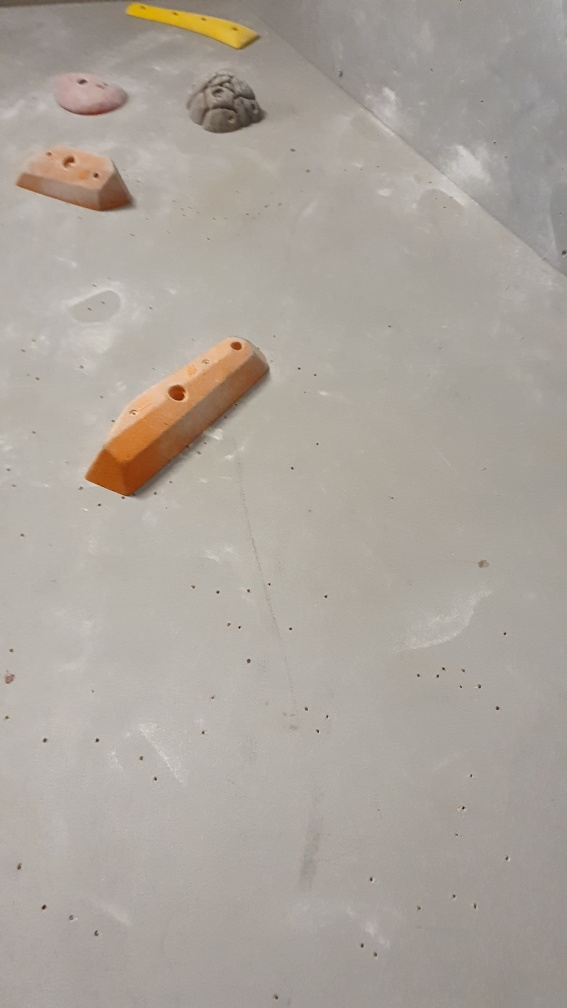Crimp: (122, 2, 259, 55)
Jug: (184, 71, 270, 135)
Pinch: (80, 332, 272, 497), (15, 144, 139, 212)
